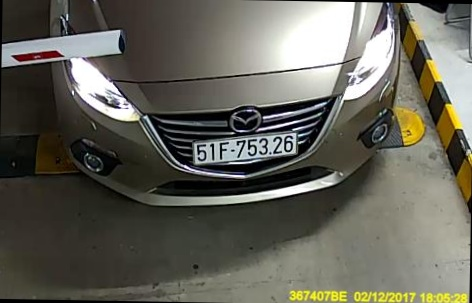plate: (190, 131, 303, 165)
